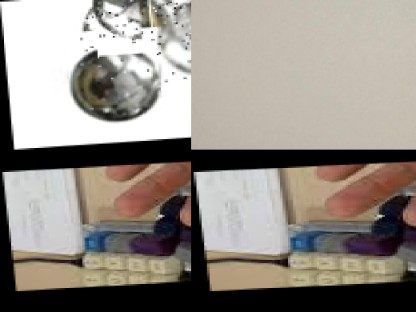ironball: (64, 32, 160, 125), (147, 0, 191, 87), (74, 0, 156, 43)
